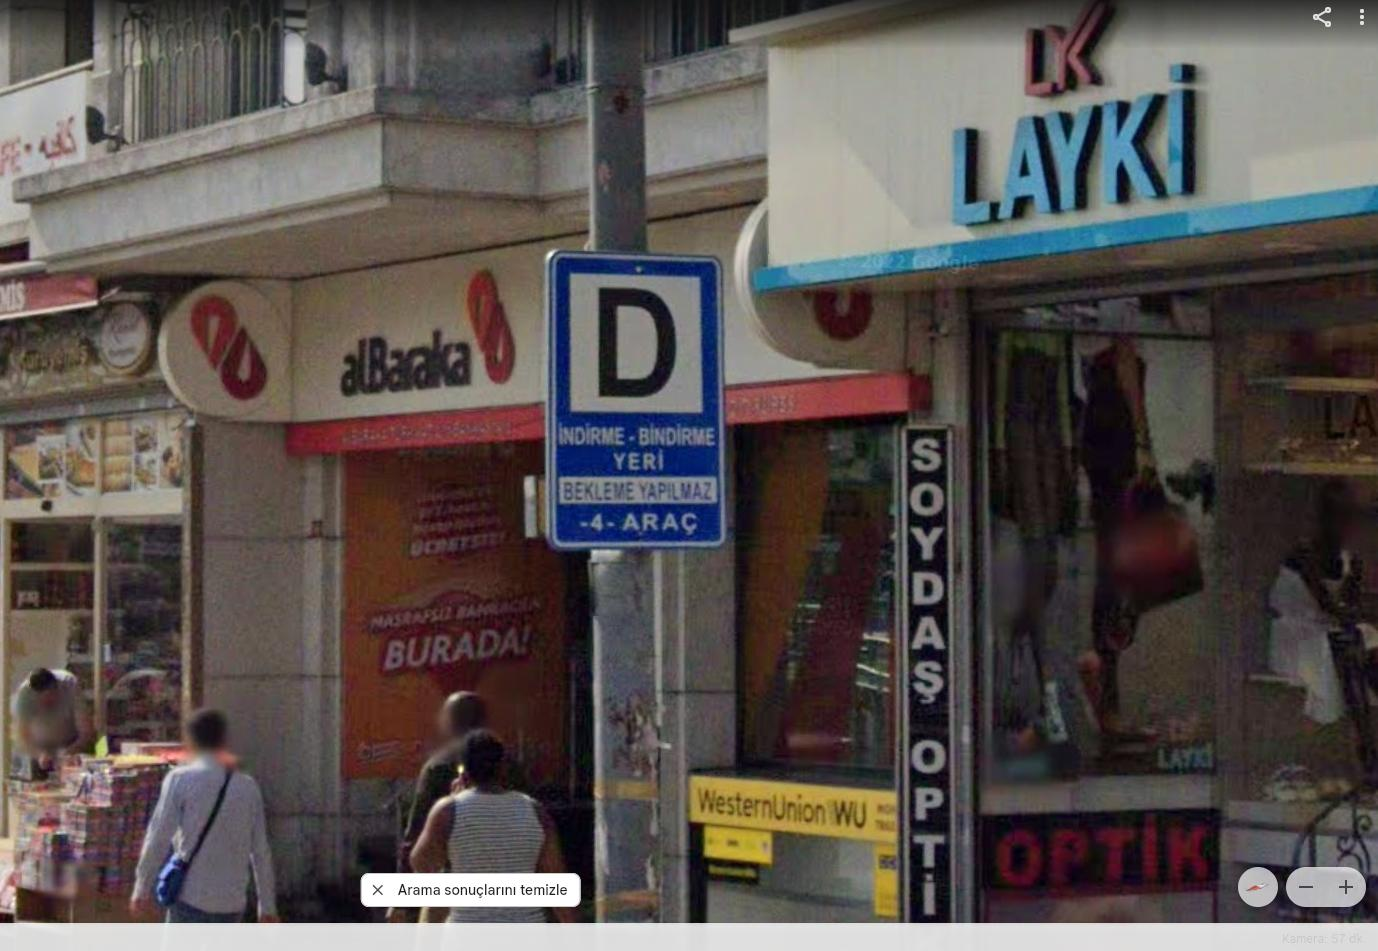station: (559, 261, 714, 422)
